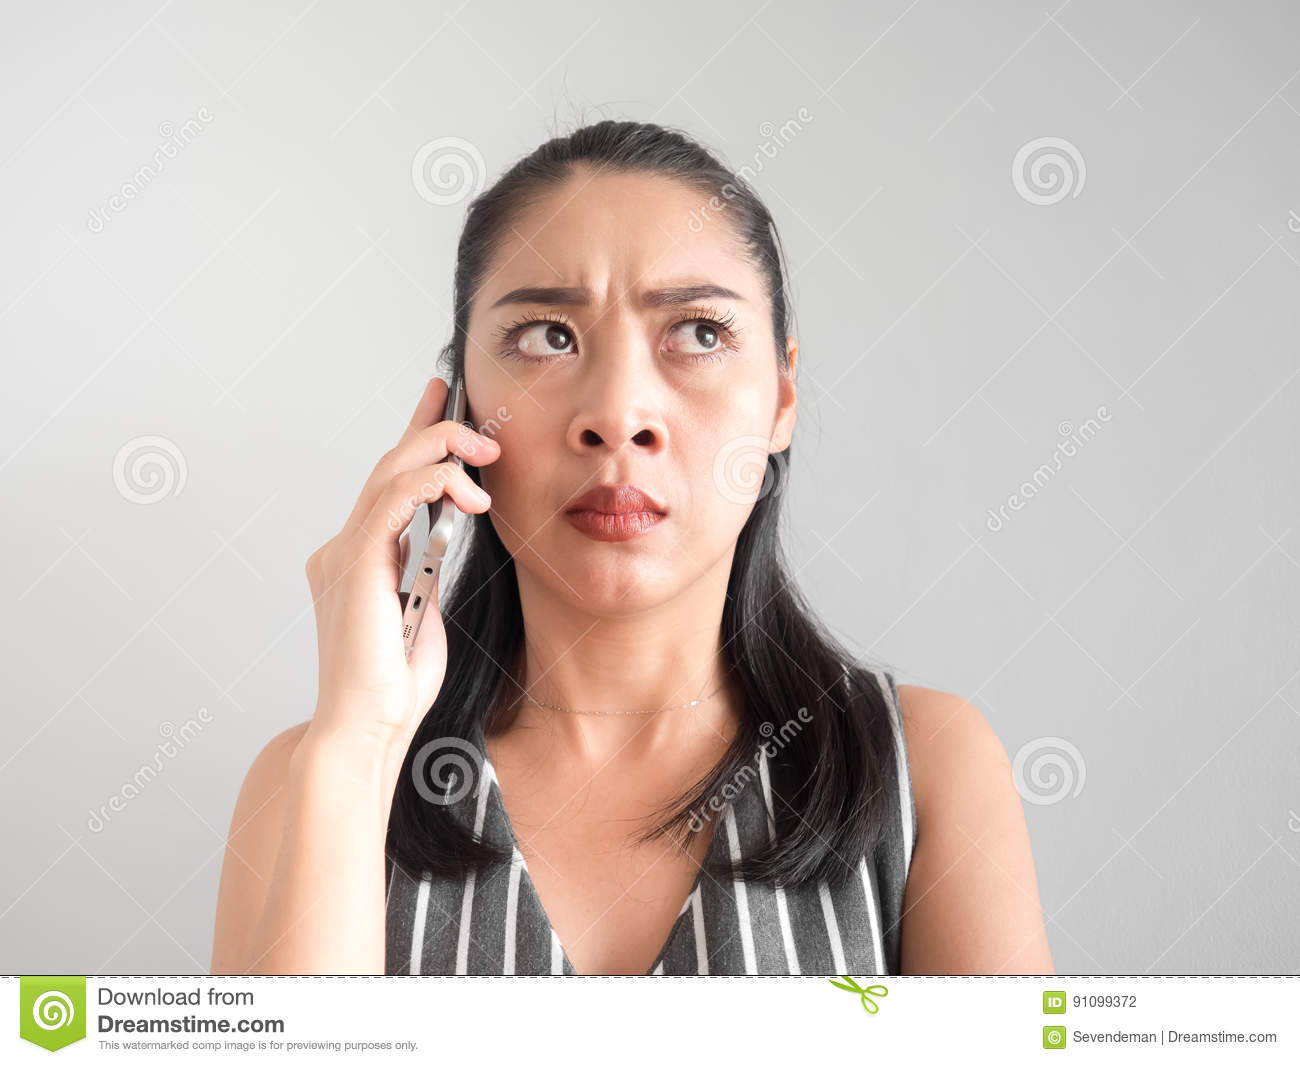phone: (299, 342, 511, 666)
talk: (292, 277, 798, 700)
